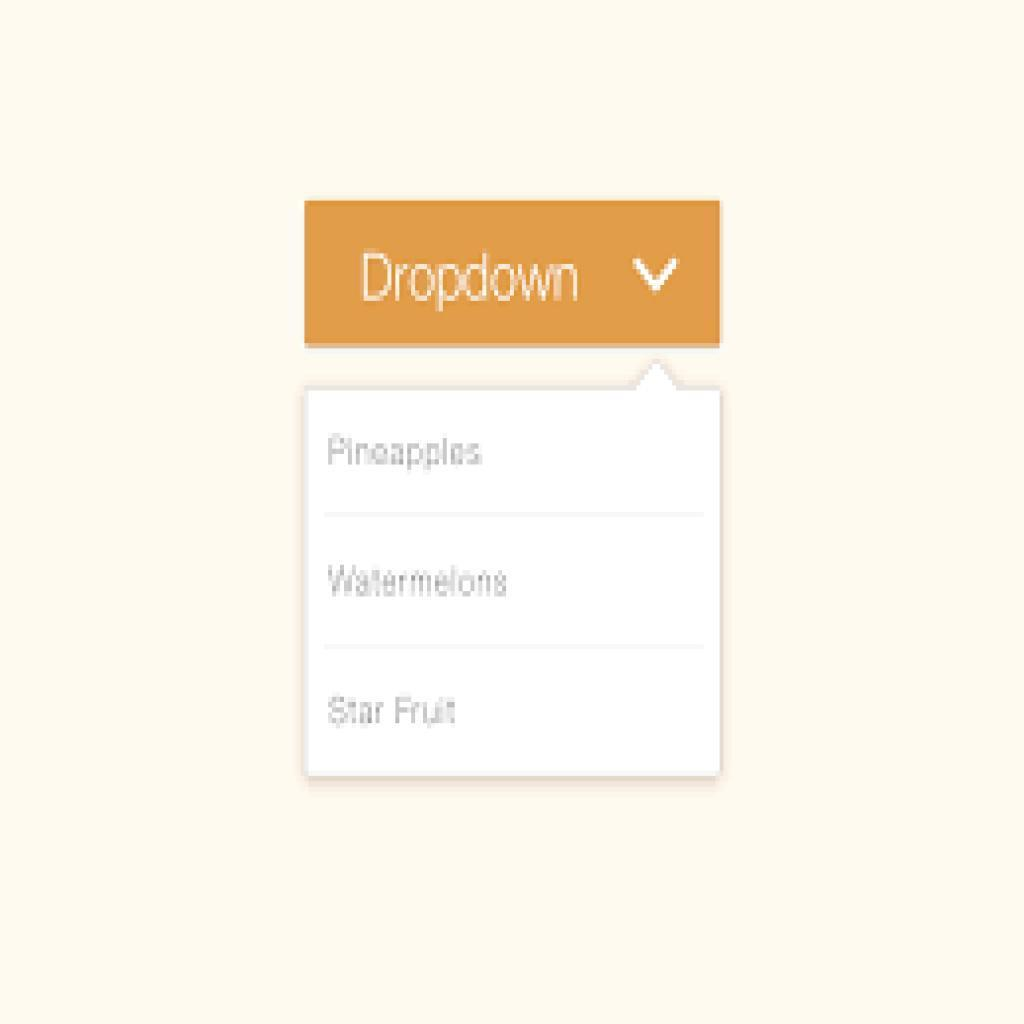dropdown: (307, 200, 723, 349)
label: (328, 428, 488, 476), (325, 564, 512, 603), (322, 690, 466, 735)
